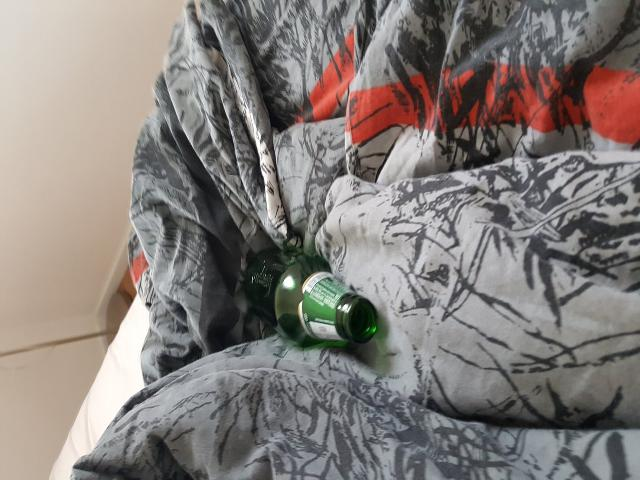beer: (242, 249, 378, 348)
